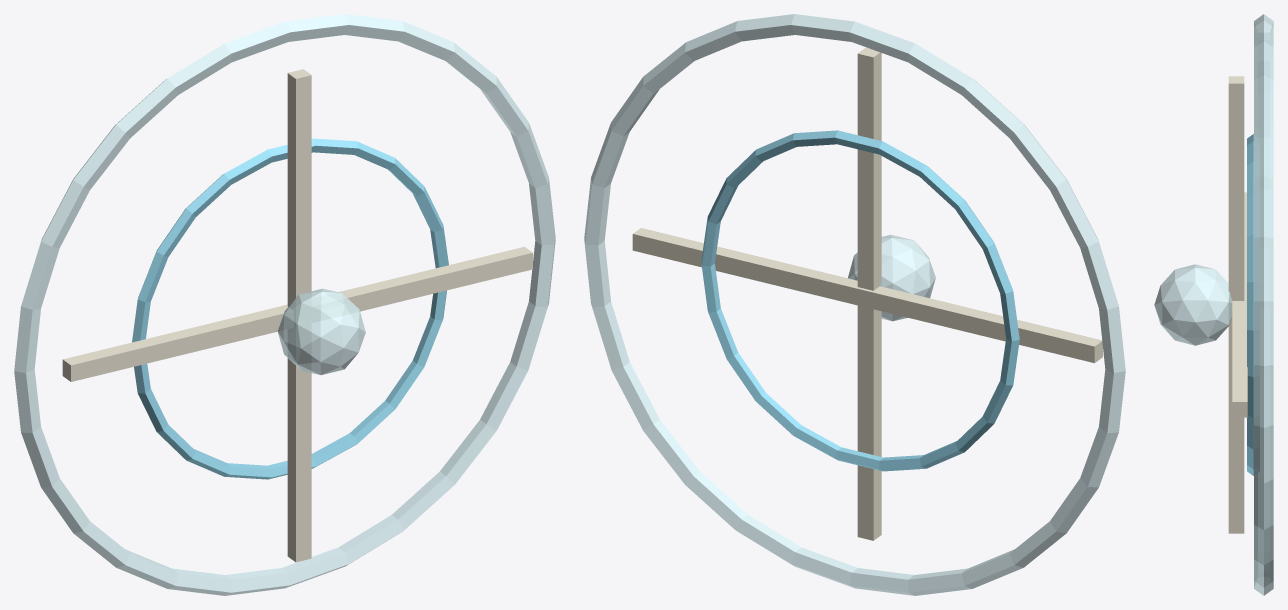
Rendered from 06_combat_flow_anchor.glb.
3 renders of one model, left to right at view 1: azimuth 30°, elevation 25°; view 2: azimuth 150°, elevation 25°; view 3: azimuth 270°, elevation 25°, orthographic. The views are drawn at different scales.
Parts seen in each view (by area): view 1: flow_outer_ring, flow_inner_ring, flow_lane_cross, flow_lane_forward, perfect_flow_core; view 2: flow_outer_ring, flow_inner_ring, flow_lane_forward, flow_lane_cross, perfect_flow_core; view 3: flow_outer_ring, flow_lane_cross, perfect_flow_core, flow_inner_ring, flow_lane_forward.
Part boxes in pixels (x1,y1,x2,y2): flow_outer_ring: (14, 14, 555, 595); flow_inner_ring: (132, 138, 448, 479); flow_lane_cross: (287, 69, 311, 562); flow_lane_forward: (62, 246, 532, 381); perfect_flow_core: (277, 288, 365, 374); flow_outer_ring: (584, 14, 1125, 595); flow_inner_ring: (701, 130, 1019, 471); flow_lane_forward: (632, 228, 1102, 363); flow_lane_cross: (857, 47, 881, 540); perfect_flow_core: (848, 235, 935, 321); flow_outer_ring: (1254, 14, 1273, 595); flow_lane_cross: (1228, 76, 1244, 533); perfect_flow_core: (1154, 264, 1232, 345); flow_inner_ring: (1247, 134, 1259, 475); flow_lane_forward: (1232, 192, 1247, 417).
Bounding box in the file's own units: 1.7 × 1.7 × 0.3485.
